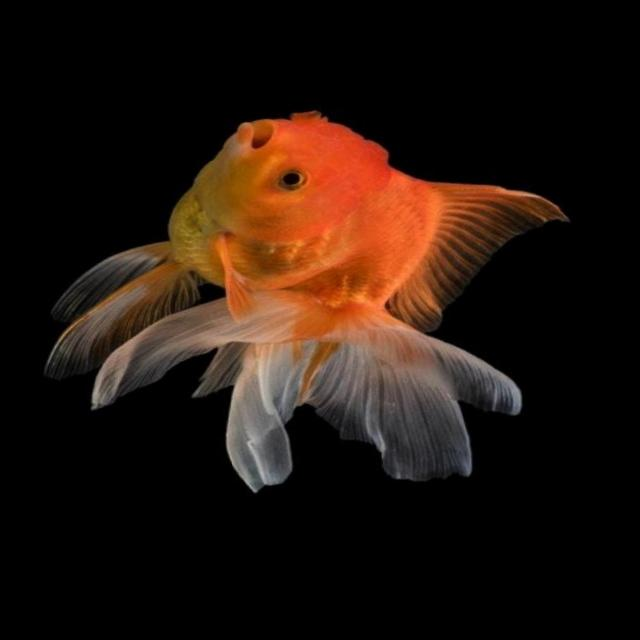GoldFish: (0, 60, 616, 547)
